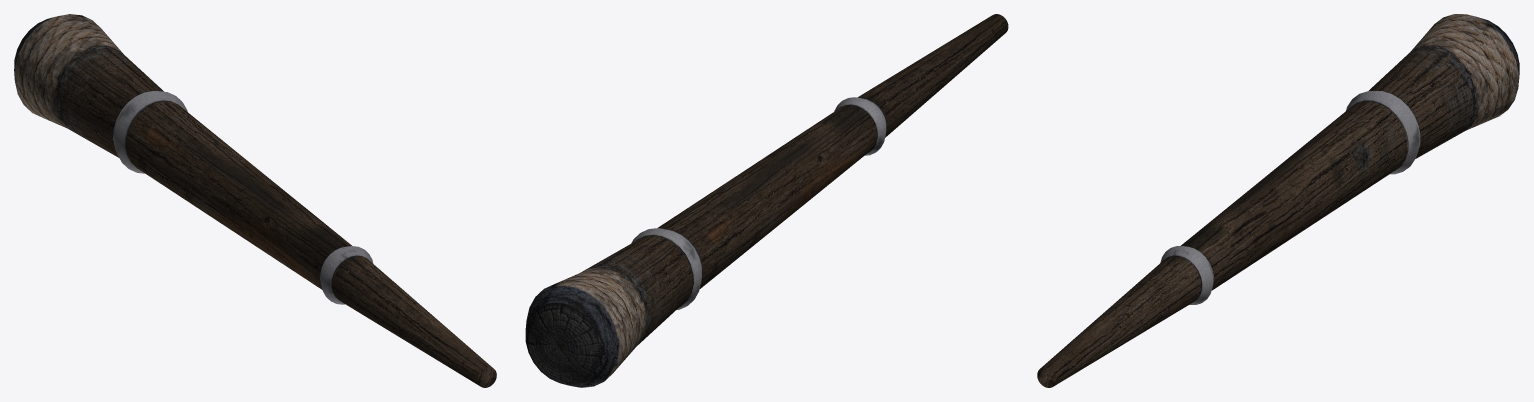
File: Titlt_000003.fbx
3 views of the same model, side by side, from view 1: azimuth 30°, elevation 25°; view 2: azimuth 150°, elevation 25°; view 3: azimuth 330°, elevation 25° (orthographic).
Visible parts, largest first — view 1: Object001; view 2: Object001; view 3: Object001.
Part boxes in pixels (bbox=[...]): Object001: bbox=[14, 14, 496, 387]; Object001: bbox=[525, 14, 1008, 387]; Object001: bbox=[1037, 14, 1519, 387].
Bounding box in the file's own units: 91.41 × 11.35 × 11.79.
Materials: 1 (1 with a texture image).
